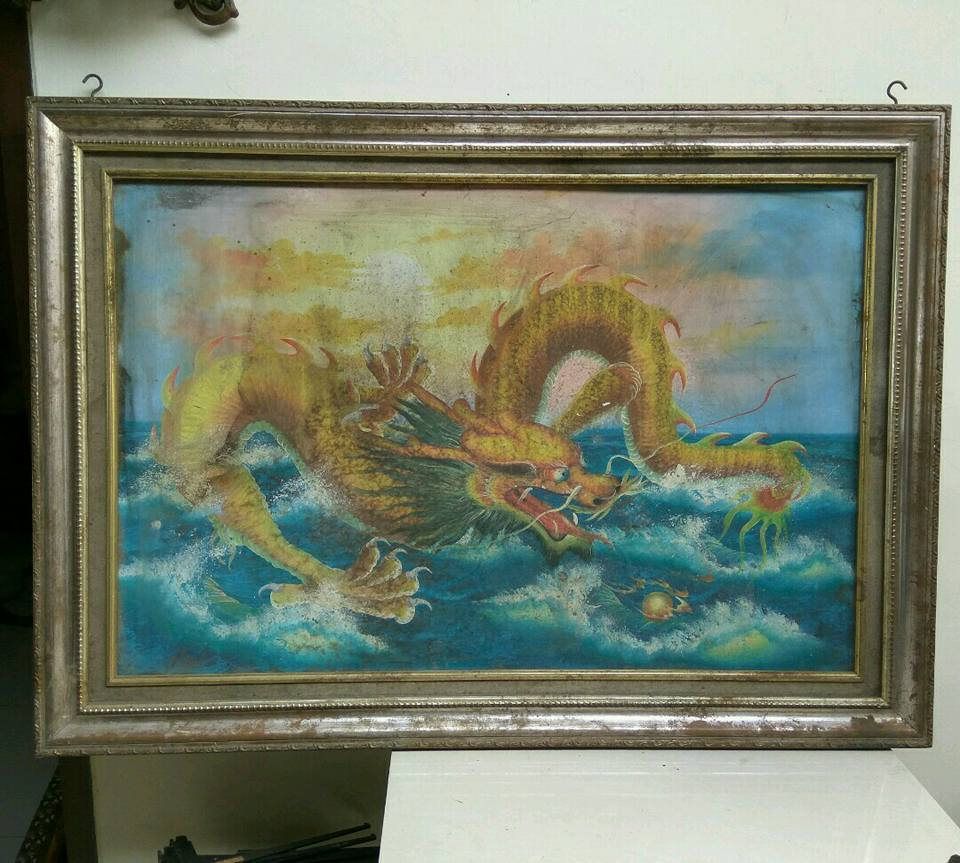lukisan: (12, 99, 940, 762)
